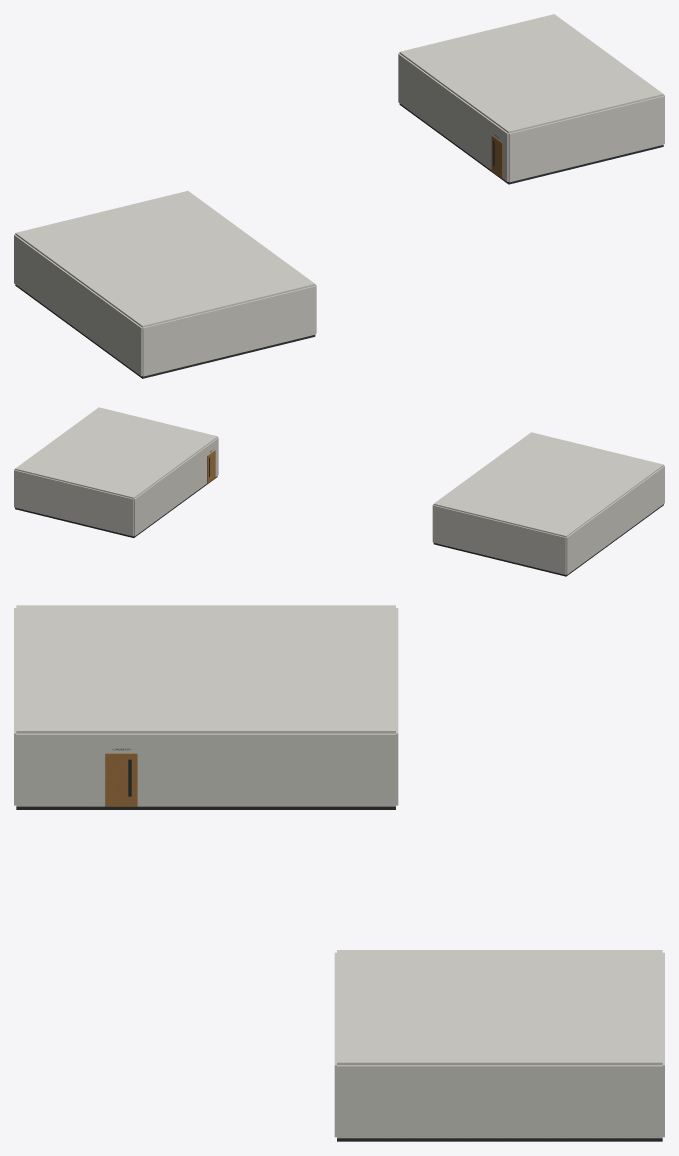
File: SM_F03_ClosedClassrooms.fbx
3 renders of one model, top to bottom at view 1: azimuth 30°, elevation 25°; view 2: azimuth 150°, elevation 25°; view 3: azimuth 270°, elevation 25°, orthographic. The views are drawn at different scales.
Visible parts, largest first — view 1: SM_F03_ClosedClassrooms; view 2: SM_F03_ClosedClassrooms; view 3: SM_F03_ClosedClassrooms.
Boxes of the visible parts, <box> form: SM_F03_ClosedClassrooms: <box>14,14,664,378</box>; SM_F03_ClosedClassrooms: <box>14,407,664,576</box>; SM_F03_ClosedClassrooms: <box>14,605,664,1141</box>.
Size of the model in its own units: 4238 by 2538 by 339.
Materials: 4 (2 with a texture image).
